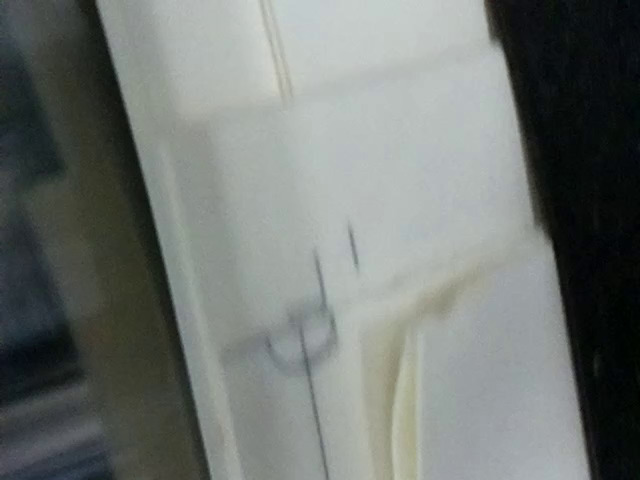misaligned: (221, 255, 349, 383)
